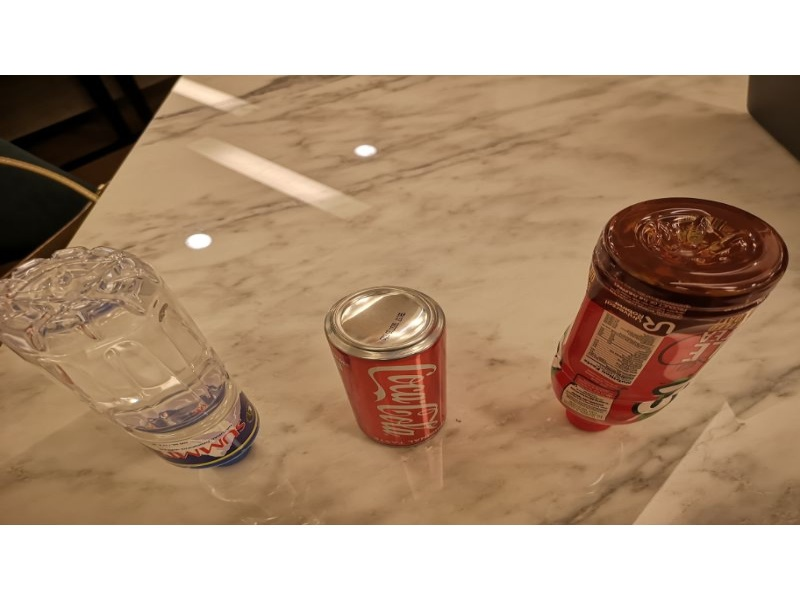PET #1: (2, 247, 268, 477), (547, 195, 790, 446)
